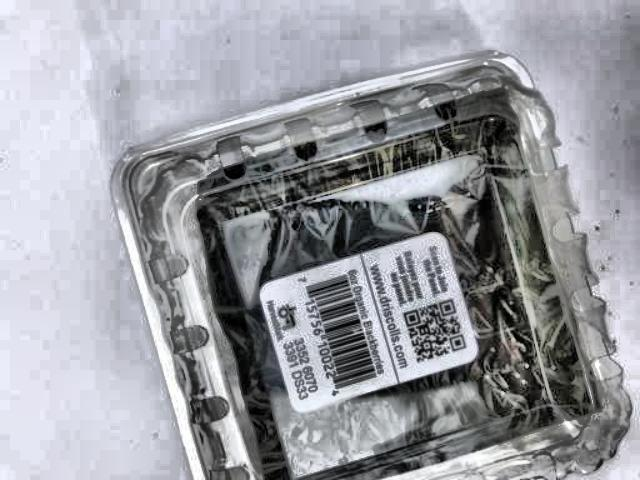Plastic: (95, 45, 640, 480)
